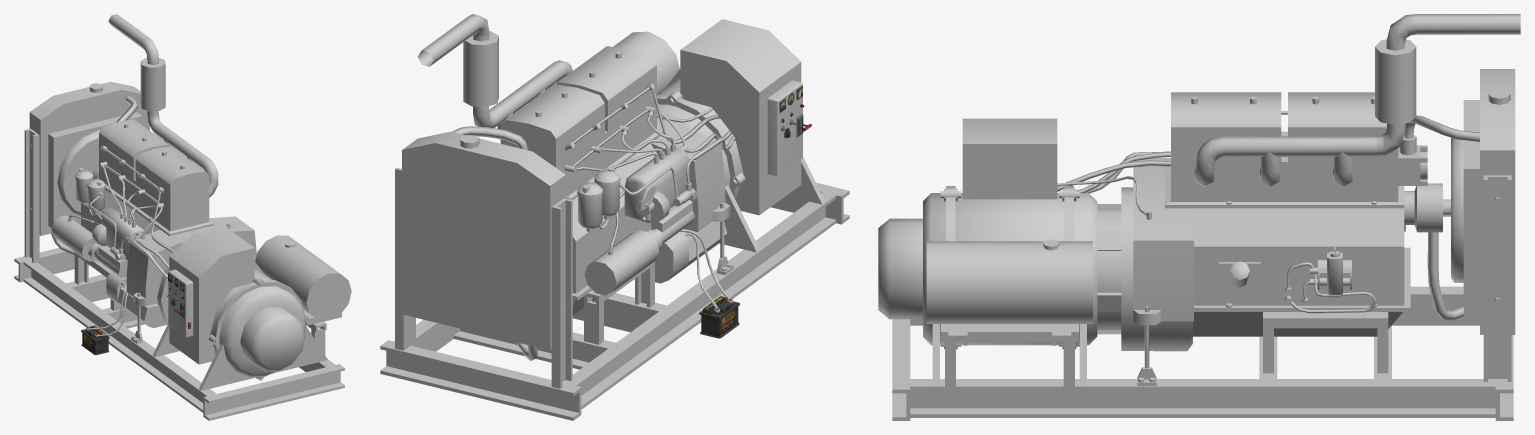
The model's file is industrialGenerator.fbx.
3 views of the same model, side by side, from view 1: azimuth 30°, elevation 25°; view 2: azimuth 150°, elevation 25°; view 3: azimuth 270°, elevation 25° (orthographic). The views are drawn at different scales.
Visible parts, largest first — view 1: industrialGenerator, industrialGenerator_battery; view 2: industrialGenerator, industrialGenerator_battery; view 3: industrialGenerator.
Part boxes in pixels (<box>): industrialGenerator: <box>14,14,351,420</box>; industrialGenerator_battery: <box>81,317,124,355</box>; industrialGenerator: <box>380,14,849,420</box>; industrialGenerator_battery: <box>697,263,739,338</box>; industrialGenerator: <box>878,14,1520,420</box>.
Size of the model in its own units: 228 by 302 by 464.
